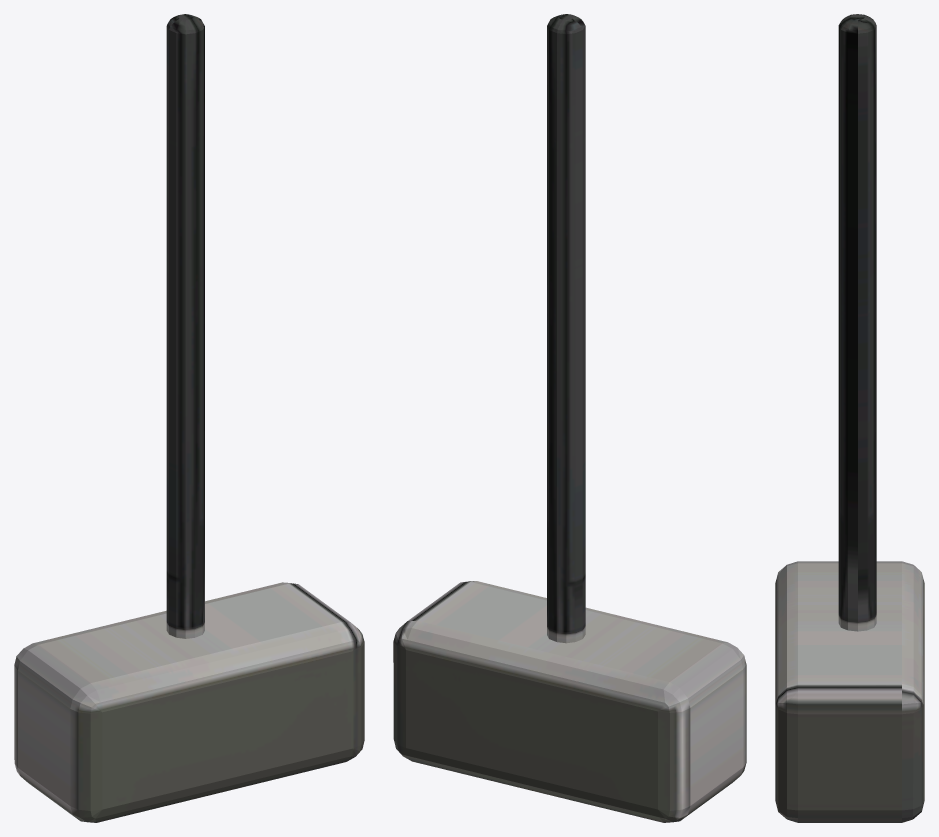
Rendered from Hammer.glb.
The picture shows the model from 3 angles, left to right: view 1: azimuth 30°, elevation 25°; view 2: azimuth 150°, elevation 25°; view 3: azimuth 270°, elevation 25°; orthographic projection.
Visible parts, largest first — view 1: Hammer; view 2: Hammer; view 3: Hammer.
Boxes of the visible parts, x1,y1,x2,y2 form: Hammer: (14,14,364,822); Hammer: (393,14,746,822); Hammer: (775,14,924,822).
Size of the model in its own units: 139 by 344 by 62.73.
1 material, 1 textured.
